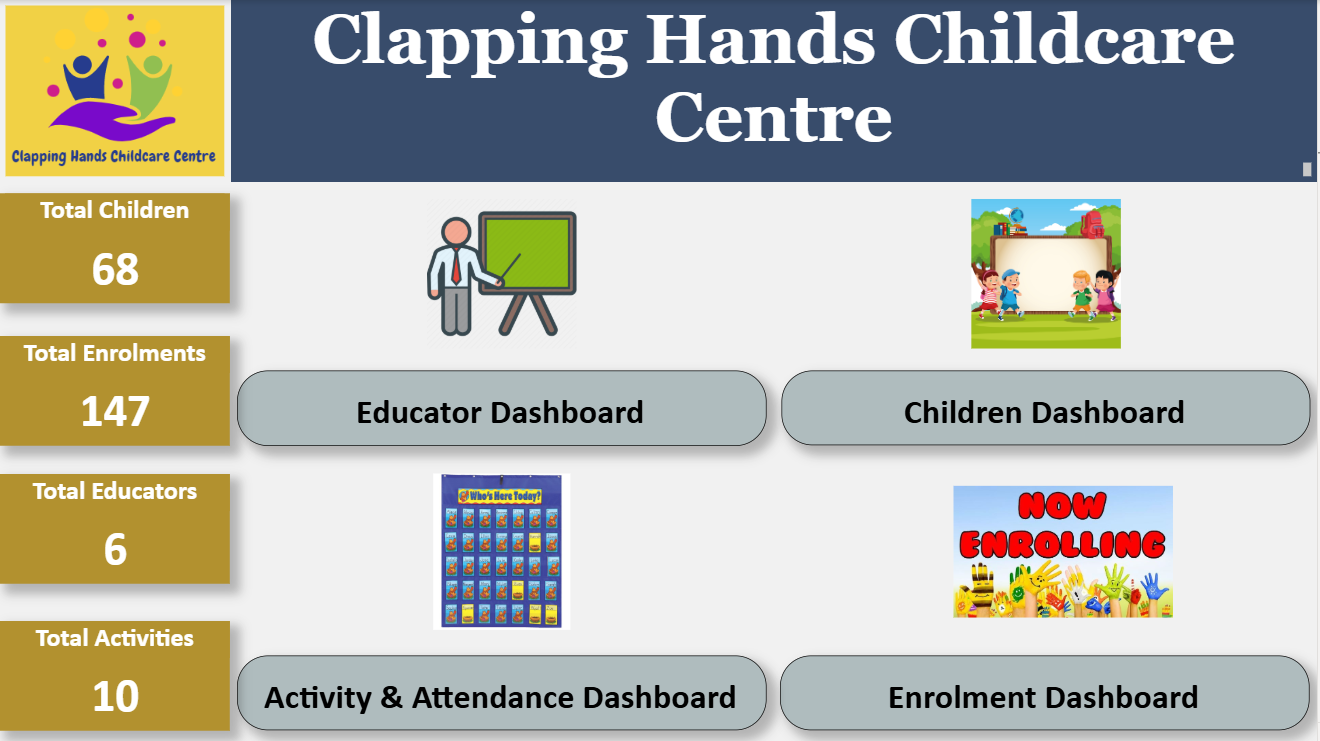

Layout of this report page (visuals, bound fields, positions):
{"tool":"powerbi","page":{"name":"Homepage","canvas":[1280,720],"ordinal":0},"visuals":[{"type":"actionButton","box":[765.6,636.7,514.4,73.1],"z":0},{"type":"actionButton","box":[229.9,636.7,514.4,73.1],"z":1000},{"type":"actionButton","box":[229.9,360.2,514.4,73.1],"z":2000},{"type":"actionButton","box":[765.6,360.2,514,73.1],"z":3000},{"type":"textbox","title":"Clapping Hands Childcare Centre","box":[224.1,0,1054.9,176.5],"z":4000},{"type":"card","title":"Total Educators","fields":{"Values":["CountNonNull(Educator.educator_id)"]},"box":[0,461.2,223.3,106.3],"z":5000},{"type":"card","title":"Total Children","fields":{"Values":["CountNonNull(Child.child_id)"]},"box":[0,187.4,223.3,106.3],"z":6000},{"type":"card","title":"Total Activities","fields":{"Values":["Count(ChildAttendance.activity_id)"]},"box":[0,603.4,223.3,106.3],"z":7000},{"type":"image","box":[229.9,187.4,514.4,155.5],"z":8000},{"type":"image","box":[765.6,187.4,502.4,155.5],"z":9000},{"type":"image","box":[229.9,454.6,514.4,162.2],"z":10000},{"type":"image","box":[753.6,461.2,514.4,155.5],"z":11000},{"type":"card","title":"Total Enrolments","fields":{"Values":["Count(Enrollment.enrollment_id)"]},"box":[0,327,223.3,106.3],"z":12000},{"type":"image","box":[0,0,222.8,176.5],"z":13000}]}

Visuals, with their boxes in screenshot pixels (x1, y1, x2, y2), scaled from the page's 1280x720 canvas onto the 1320x741 screenshot:
actionButton: box=[790, 655, 1319, 731]
actionButton: box=[237, 655, 768, 731]
actionButton: box=[237, 371, 768, 446]
actionButton: box=[790, 371, 1319, 446]
"Clapping Hands Childcare Centre" textbox: box=[231, 0, 1319, 182]
"Total Educators" card: box=[0, 475, 230, 584]
"Total Children" card: box=[0, 193, 230, 302]
"Total Activities" card: box=[0, 621, 230, 730]
image: box=[237, 193, 768, 353]
image: box=[790, 193, 1308, 353]
image: box=[237, 468, 768, 635]
image: box=[777, 475, 1308, 635]
"Total Enrolments" card: box=[0, 337, 230, 446]
image: box=[0, 0, 230, 182]
